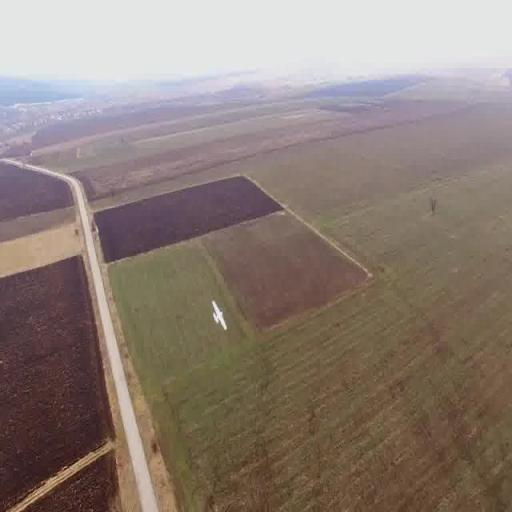uav: (207, 291, 232, 339)
